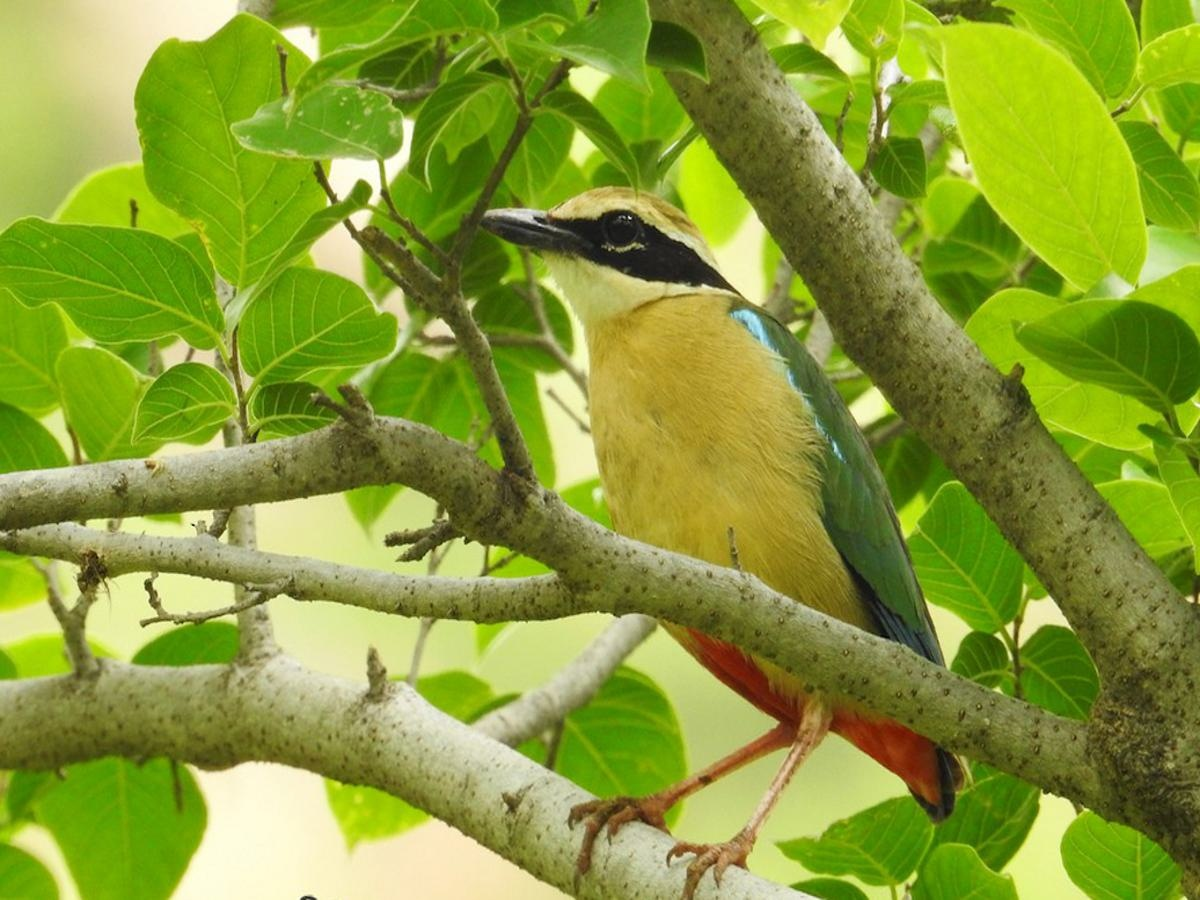pitta: (434, 149, 1024, 826)
